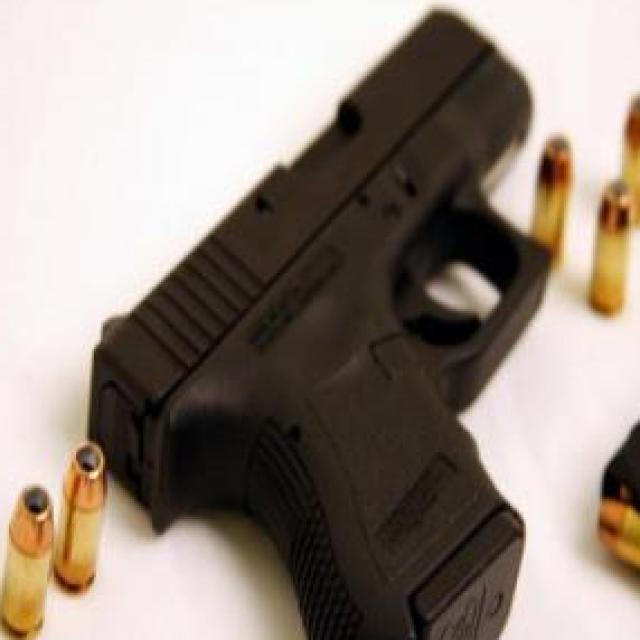pistol: (87, 4, 553, 640)
